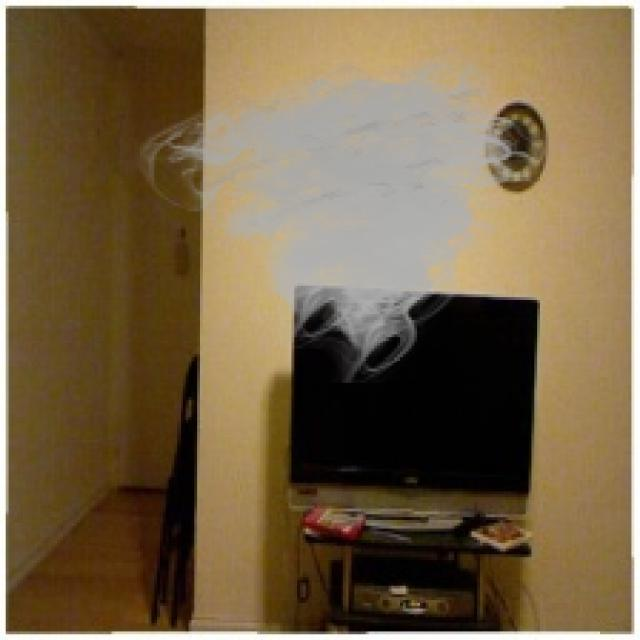smoke: (132, 40, 552, 383)
